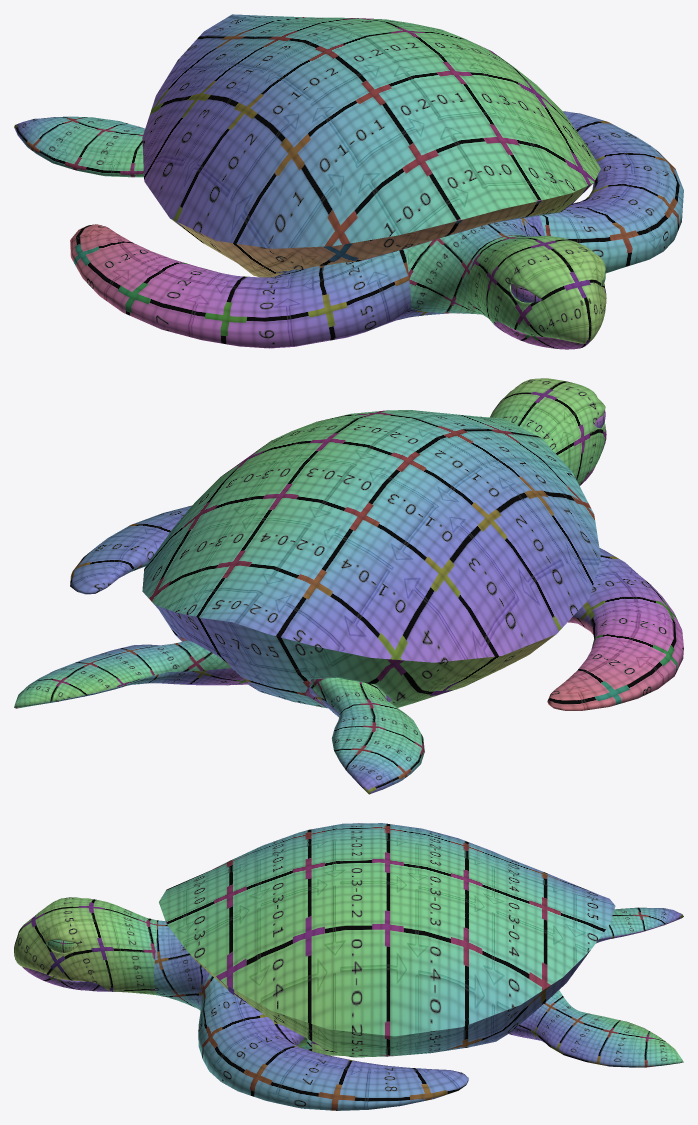
The model's file is OBJTurtleUVs.obj.
3 views of the same model, one above another, from view 1: azimuth 30°, elevation 25°; view 2: azimuth 150°, elevation 25°; view 3: azimuth 270°, elevation 25° (orthographic). The views are drawn at different scales.
Visible parts, largest first — view 1: turtle_geo_grp geometry sea_turtle shell_geo, turtle_geo_grp geometry sea_turtle f_legs_geo, r_leg_geo turtle_geo_grp geometry sea_turtle; view 2: turtle_geo_grp geometry sea_turtle shell_geo, turtle_geo_grp geometry sea_turtle f_legs_geo, r_leg_geo turtle_geo_grp geometry sea_turtle, turtle_geo_grp geometry sea_turtle l_leg_geo; view 3: turtle_geo_grp geometry sea_turtle shell_geo, turtle_geo_grp geometry sea_turtle f_legs_geo, turtle_geo_grp geometry sea_turtle l_leg_geo, r_leg_geo turtle_geo_grp geometry sea_turtle.
Part boxes in pixels (bbox=[...]): turtle_geo_grp geometry sea_turtle shell_geo: bbox=[142, 14, 600, 277]; turtle_geo_grp geometry sea_turtle f_legs_geo: bbox=[70, 111, 683, 349]; r_leg_geo turtle_geo_grp geometry sea_turtle: bbox=[14, 116, 144, 177]; turtle_geo_grp geometry sea_turtle shell_geo: bbox=[142, 410, 600, 708]; turtle_geo_grp geometry sea_turtle f_legs_geo: bbox=[70, 378, 683, 710]; r_leg_geo turtle_geo_grp geometry sea_turtle: bbox=[309, 677, 424, 794]; turtle_geo_grp geometry sea_turtle l_leg_geo: bbox=[14, 640, 249, 708]; turtle_geo_grp geometry sea_turtle shell_geo: bbox=[159, 823, 615, 1057]; turtle_geo_grp geometry sea_turtle f_legs_geo: bbox=[14, 897, 468, 1110]; turtle_geo_grp geometry sea_turtle l_leg_geo: bbox=[509, 990, 683, 1067]; r_leg_geo turtle_geo_grp geometry sea_turtle: bbox=[596, 907, 683, 943].
Bounding box in the file's own units: 11.44 × 4.67 × 14.12.
Materials: 4 (4 with a texture image).
